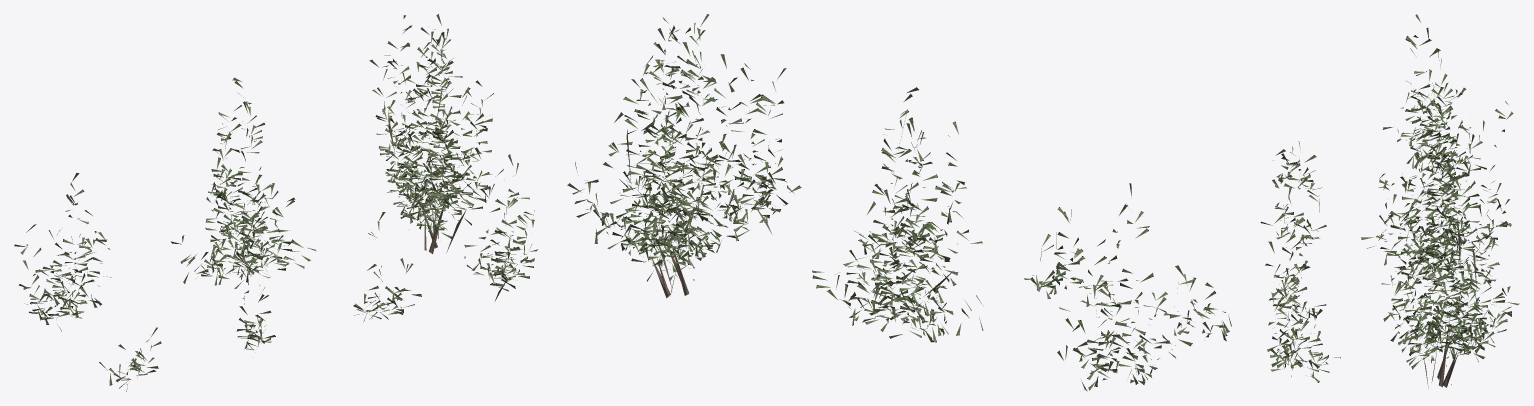
The model's file is othonna_cerarioides.glb.
3 renders of one model, left to right at view 1: azimuth 30°, elevation 25°; view 2: azimuth 150°, elevation 25°; view 3: azimuth 270°, elevation 25°, orthographic. The views are drawn at different scales.
Parts seen in each view (by area): view 1: othonna_cerarioides_a; view 2: othonna_cerarioides_a; view 3: othonna_cerarioides_a.
Part boxes in pixels (x1,y1,x2,y2): othonna_cerarioides_a: (14, 14, 537, 391); othonna_cerarioides_a: (567, 14, 1231, 391); othonna_cerarioides_a: (1260, 14, 1519, 388).
Size of the model in its own units: 3.97 by 1.92 by 1.77.
Materials: 2 (2 with a texture image).
